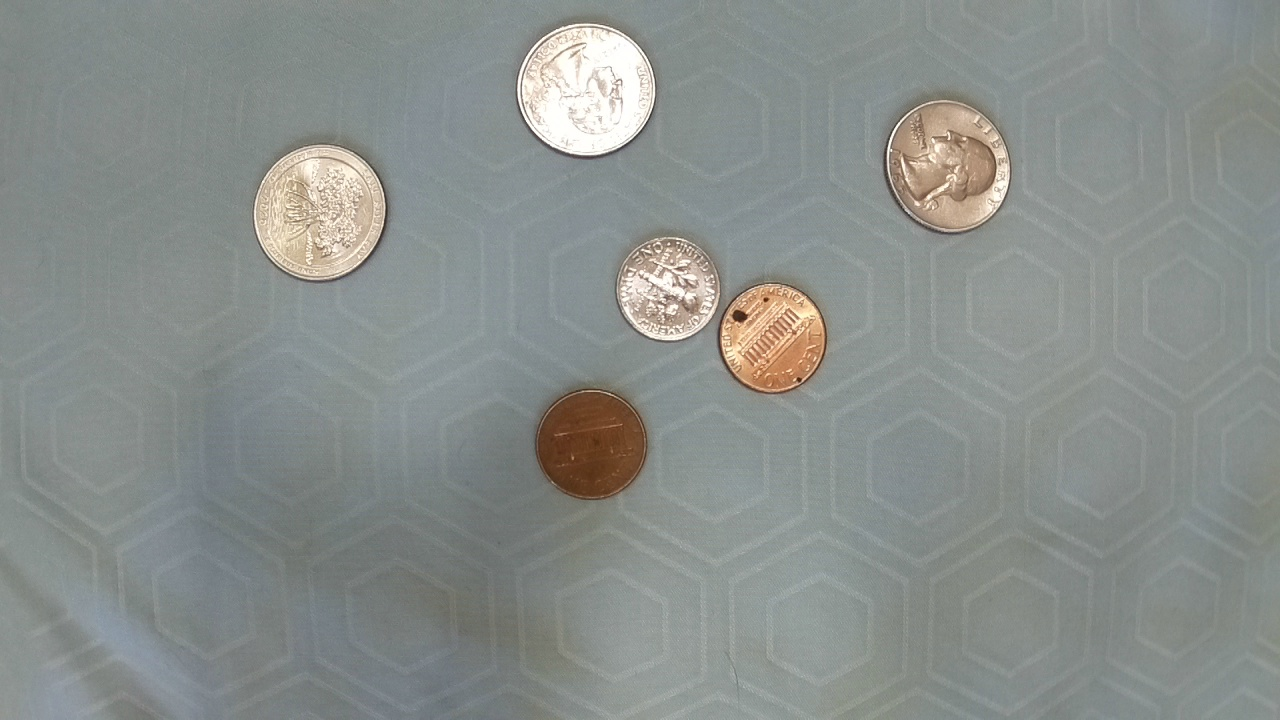dime: (614, 233, 724, 343)
penny: (714, 279, 832, 397), (532, 386, 652, 502)
quarter: (518, 14, 656, 162), (252, 140, 390, 284), (883, 98, 1011, 234)
